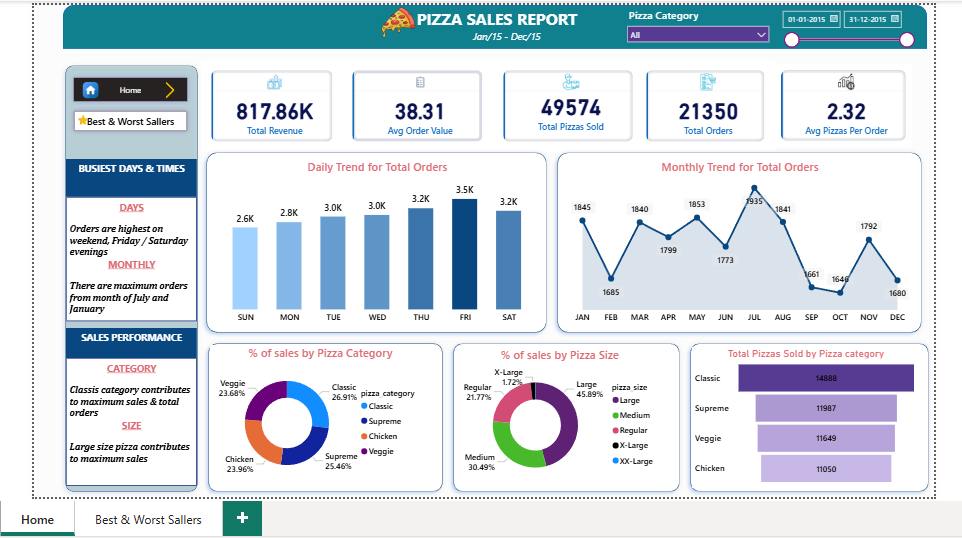

This screenshot's page, from the dashboard's own definition file:
{"tool":"powerbi","page":{"name":"Home","canvas":[1500,820],"ordinal":0},"visuals":[{"type":"cardVisual","fields":{"Data":["pizza_sales.Total Revenue"]},"box":[278.3,91.7,236.7,153.3],"z":0},{"type":"cardVisual","fields":{"Data":["pizza_sales.Total Orders"]},"box":[1003.3,91.7,231.7,153.3],"z":1000},{"type":"cardVisual","fields":{"Data":["pizza_sales.Total Pizzas Sold"]},"box":[765,91.7,250,153.3],"z":2000},{"type":"cardVisual","fields":{"Data":["pizza_sales.Avg Order Value"]},"box":[513.3,91.7,251.7,153.3],"z":3000},{"type":"cardVisual","fields":{"Data":["pizza_sales.Avg Pizzas Per Order"]},"box":[1235,98.3,228.3,138.3],"z":4000},{"type":"shape","box":[48.3,0,1440,73.3],"z":5000},{"type":"textbox","box":[588.3,0,366.7,58.3],"z":6000},{"type":"textbox","box":[703.3,36.7,170,35],"z":7000},{"type":"image","box":[553.3,0,108.3,58.3],"z":8000},{"type":"shape","box":[278.3,236.7,585,318.3],"z":9000},{"type":"columnChart","title":"Daily Trend for Total Orders","fields":{"Category":["pizza_sales.Order Day"],"Y":["pizza_sales.Total Orders"]},"box":[296.7,256.7,551.7,281.7],"z":10000},{"type":"shape","box":[863.3,236.7,625,318.3],"z":11000},{"type":"areaChart","title":"Monthly Trend for Total Orders","fields":{"Category":["pizza_sales.Order Month"],"Y":["pizza_sales.Total Orders"]},"box":[890,256.7,573.3,281.7],"z":12000},{"type":"shape","box":[281.7,555,408.3,265],"z":13000},{"type":"shape","box":[690,555,395,265],"z":14000},{"type":"shape","box":[1085,555,415,265],"z":15000},{"type":"donutChart","title":"% of sales by Pizza Size","fields":{"Y":["pizza_sales.Total Revenue"],"Category":["pizza_sales.pizza_size"]},"box":[703.3,570,346.7,235],"z":16000},{"type":"donutChart","title":"% of sales by Pizza Category","fields":{"Category":["pizza_sales.pizza_category"],"Y":["pizza_sales.Total Revenue"]},"box":[293.3,566.7,368.3,235],"z":17000},{"type":"funnel","title":"Total Pizzas Sold by Pizza category","fields":{"Category":["pizza_sales.pizza_category"],"Y":["pizza_sales.Total Pizzas Sold"]},"box":[1096.7,570,380,235],"z":18000},{"type":"shape","box":[43.3,91.7,238.3,728.3],"z":19000},{"type":"textbox","box":[53.3,256.7,218.3,63.3],"z":20000},{"type":"textbox","box":[53.3,588.3,218.3,213.3],"z":21000},{"type":"textbox","box":[53.3,538.3,218.3,50],"z":22000},{"type":"textbox","box":[53.3,320,218.3,206.7],"z":23000},{"type":"slicer","fields":{"Values":["pizza_sales.pizza_category"]},"box":[978.3,0,256.7,71.7],"z":24000},{"type":"slicer","fields":{"Values":["pizza_sales.order_date"]},"box":[1235,0,241.7,71.7],"z":25000},{"type":"pageNavigator","box":[58.3,113.3,205,55],"z":26000},{"type":"pageNavigator","box":[58.3,168.3,205,50],"z":27000},{"type":"image","box":[203.3,128.3,46.7,26.7],"z":28000},{"type":"image","box":[73.3,165,16.7,53.3],"z":29000},{"type":"image","box":[58.3,128.3,71.7,26.7],"z":30000}]}

Visuals, with their boxes on the page's 1500x820 design canvas (x1, y1, x2, y2). These are canvas units, not pixel positions in the 962x538 screenshot, which may show the page scaled, cropped or inside an application window:
cardVisual - pizza_sales.Total Revenue: region(278, 92, 515, 245)
cardVisual - pizza_sales.Total Orders: region(1003, 92, 1235, 245)
cardVisual - pizza_sales.Total Pizzas Sold: region(765, 92, 1015, 245)
cardVisual - pizza_sales.Avg Order Value: region(513, 92, 765, 245)
cardVisual - pizza_sales.Avg Pizzas Per Order: region(1235, 98, 1463, 237)
shape: region(48, 0, 1488, 73)
textbox: region(588, 0, 955, 58)
textbox: region(703, 37, 873, 72)
image: region(553, 0, 662, 58)
shape: region(278, 237, 863, 555)
"Daily Trend for Total Orders" columnChart: region(297, 257, 848, 538)
shape: region(863, 237, 1488, 555)
"Monthly Trend for Total Orders" areaChart: region(890, 257, 1463, 538)
shape: region(282, 555, 690, 820)
shape: region(690, 555, 1085, 820)
shape: region(1085, 555, 1500, 820)
"% of sales by Pizza Size" donutChart: region(703, 570, 1050, 805)
"% of sales by Pizza Category" donutChart: region(293, 567, 662, 802)
"Total Pizzas Sold by Pizza category" funnel: region(1097, 570, 1477, 805)
shape: region(43, 92, 282, 820)
textbox: region(53, 257, 272, 320)
textbox: region(53, 588, 272, 802)
textbox: region(53, 538, 272, 588)
textbox: region(53, 320, 272, 527)
slicer - pizza_sales.pizza_category: region(978, 0, 1235, 72)
slicer - pizza_sales.order_date: region(1235, 0, 1477, 72)
pageNavigator: region(58, 113, 263, 168)
pageNavigator: region(58, 168, 263, 218)
image: region(203, 128, 250, 155)
image: region(73, 165, 90, 218)
image: region(58, 128, 130, 155)
